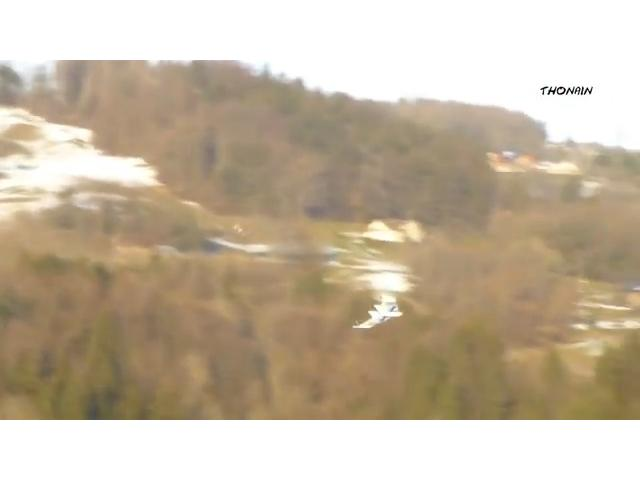Anti-Drone: (337, 287, 411, 337)
